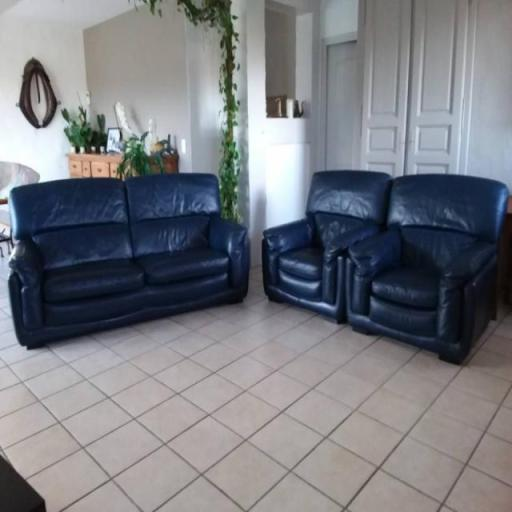sofa: (276, 160, 508, 374), (4, 163, 258, 355)
